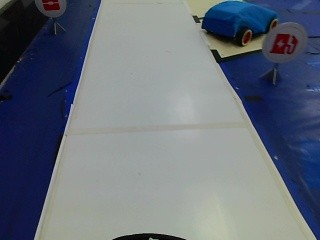battery: (267, 29, 301, 60)
